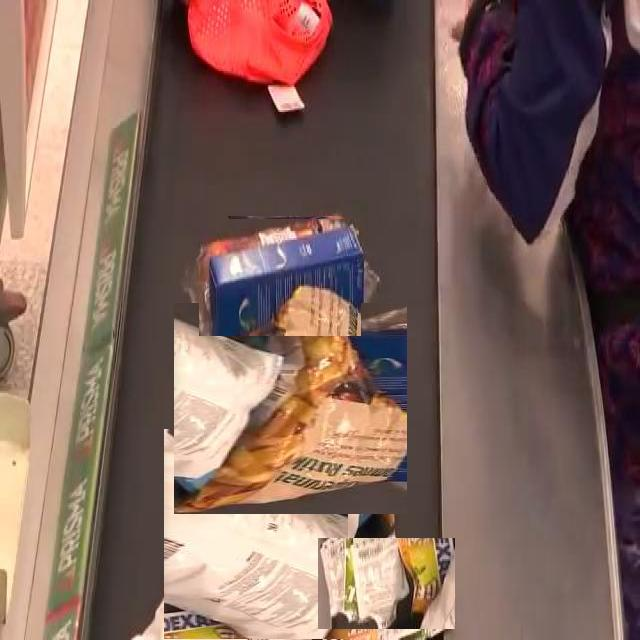food-box: (179, 298, 402, 520), (150, 441, 360, 640), (219, 225, 360, 367), (200, 219, 362, 336), (318, 537, 456, 629)
utility-box: (184, 0, 332, 94)
